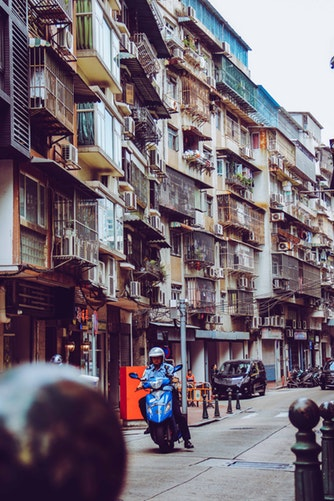helmet: (147, 343, 168, 367)
